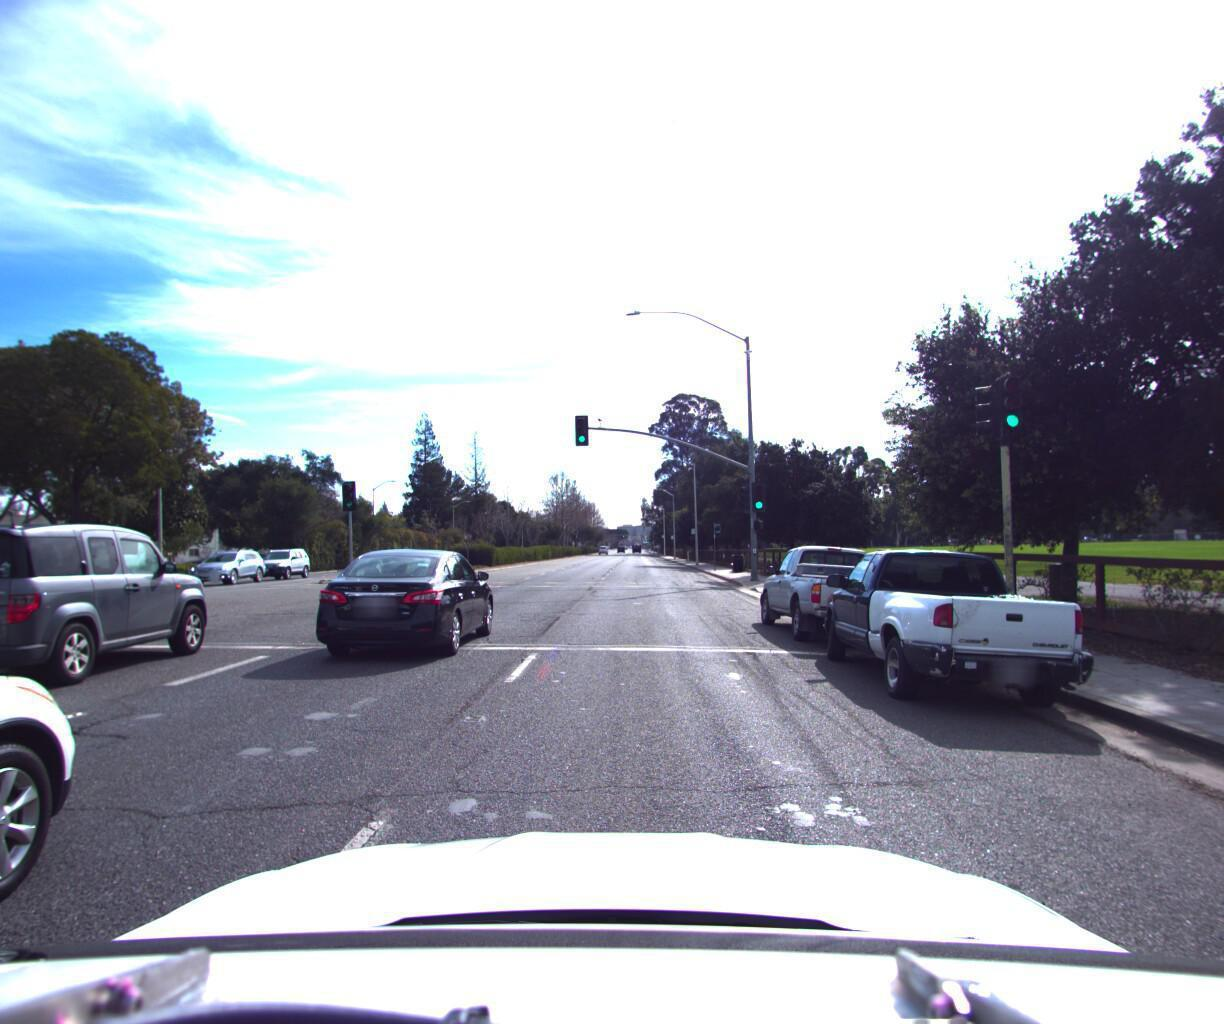car: (812, 540, 1113, 725), (0, 539, 99, 1024), (0, 527, 219, 705), (302, 541, 499, 668), (753, 539, 926, 648), (182, 543, 274, 585), (246, 542, 318, 578)
